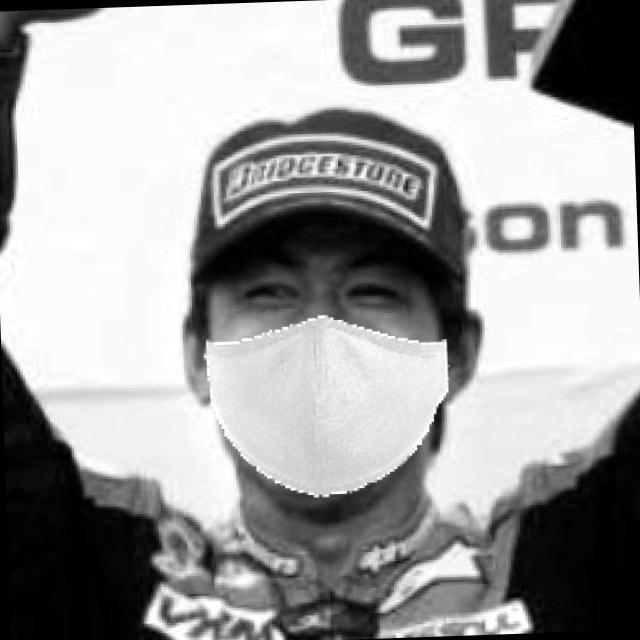mask: (197, 336, 425, 478)
no_gloves: (222, 81, 464, 266)
